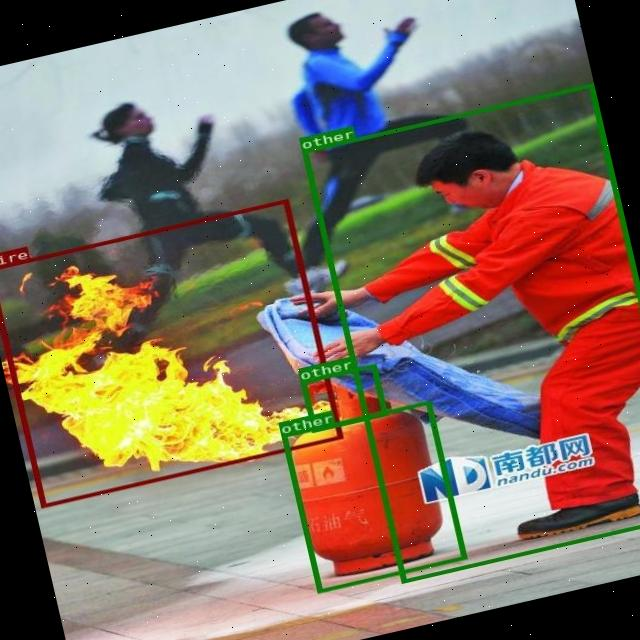fire: (0, 198, 342, 506)
